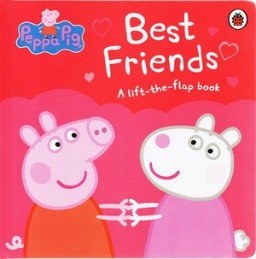Peppa: (5, 110, 128, 259)
